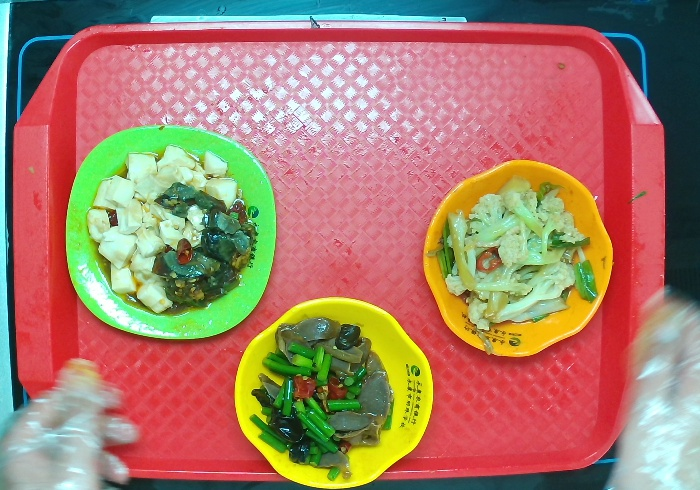YKMZ-Huang_Se_Ao_Bian_Wan: (233, 295, 435, 490)
YKMZ-Ju_Se_Ao_Bian_Wan: (421, 158, 616, 360)
YKMZ-Lv_Se_Fang_Die: (64, 124, 278, 340)
